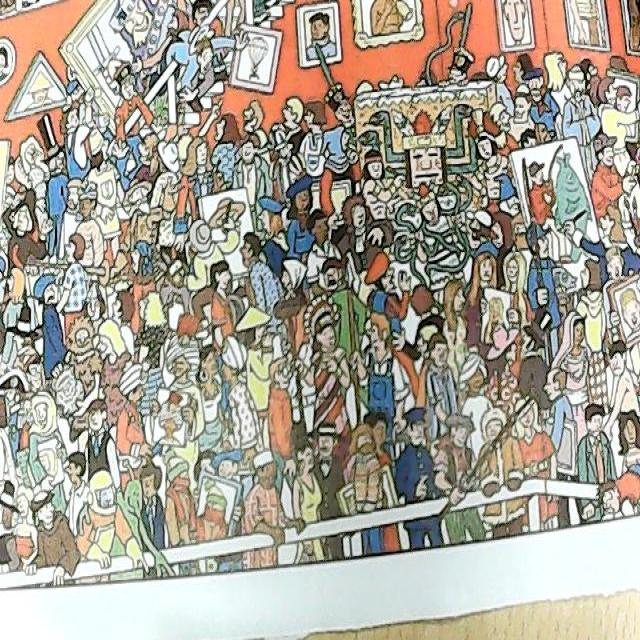waldo: (16, 350, 43, 393)
